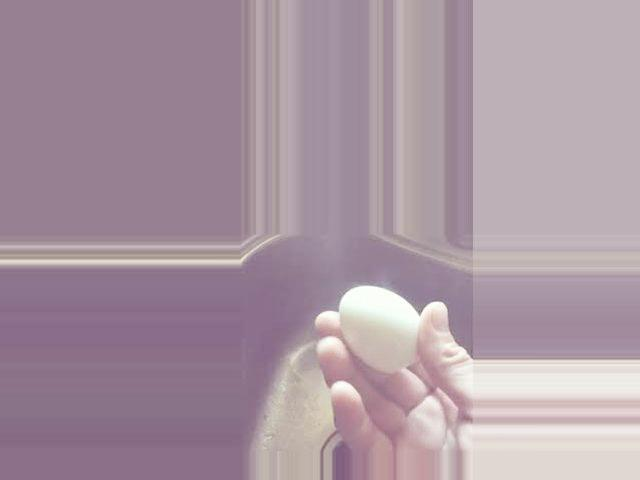egg: (339, 286, 420, 371)
